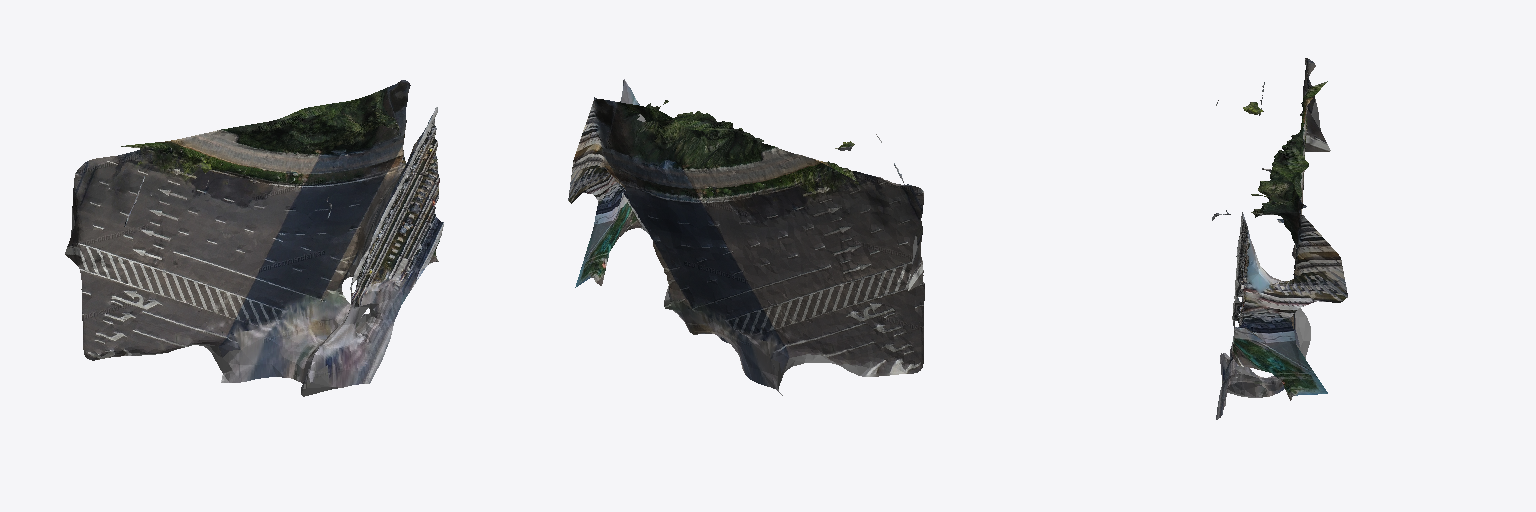
3 views of the same model, side by side, from view 1: azimuth 30°, elevation 25°; view 2: azimuth 150°, elevation 25°; view 3: azimuth 270°, elevation 25° (orthographic).
Bounding box in the file's own units: 60.9 × 43.9 × 21.3.
2 materials, 1 textured.